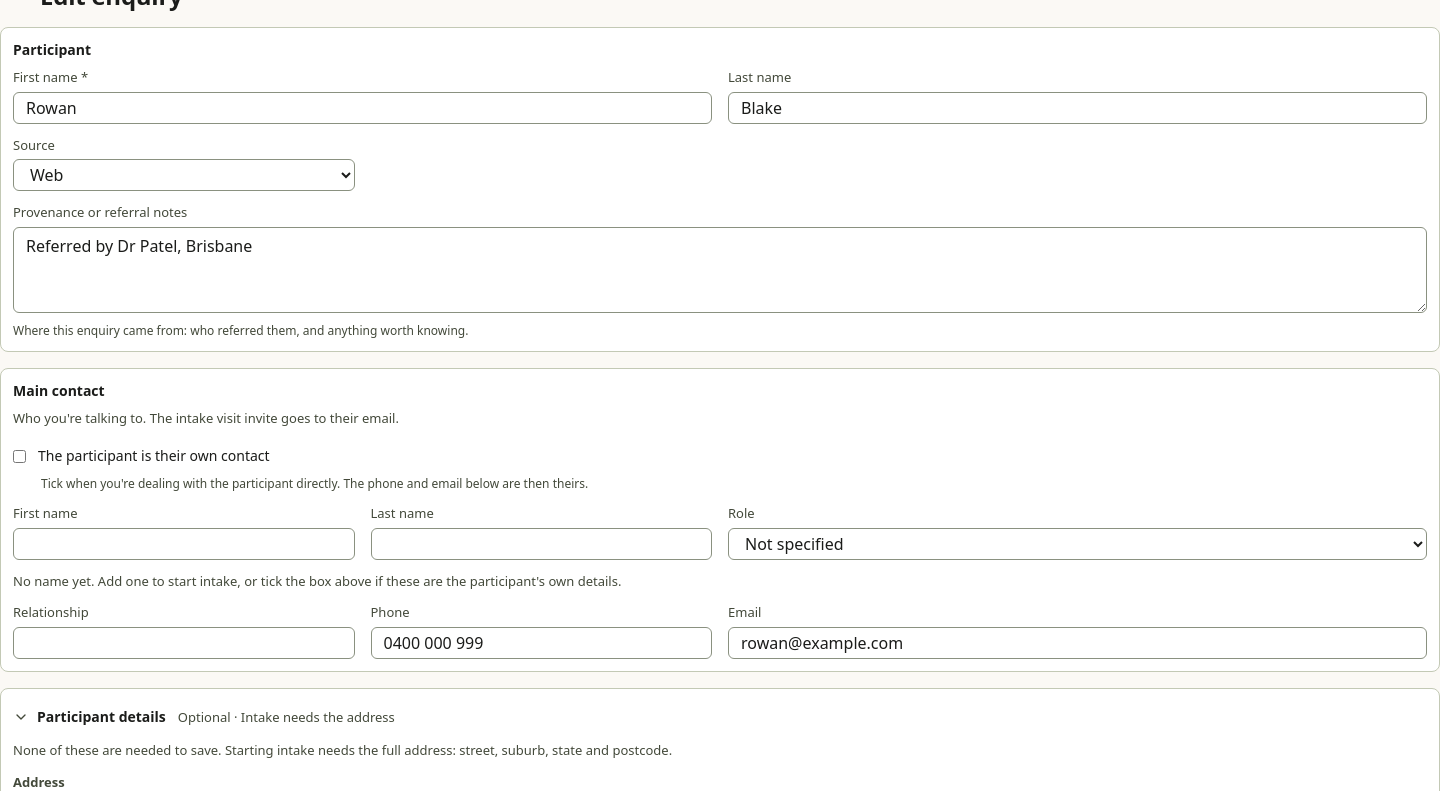
InquiryFormPage (wire) — editing an enquiry opened cold › saves the loaded email, source and provenance with only the name changed: a cold edit never overwrites them with blanks
Replace the text in the field labelled "First name *" with "Ro" at (362, 108), box [13,92,712,124]
(page scrolled)
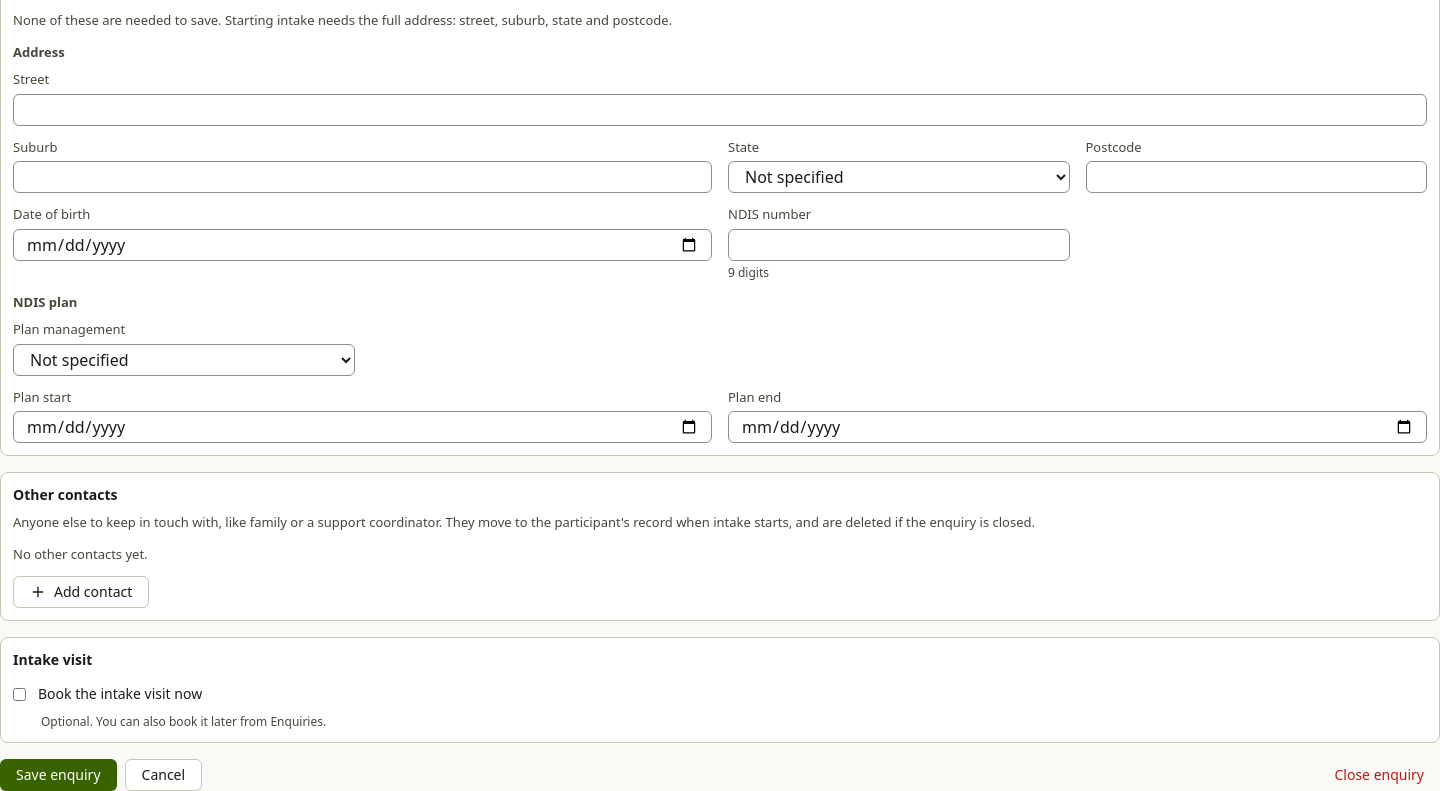
Click the button "Save enquiry".
click(58, 775)  # box [0,759,116,790]
(page scrolled)
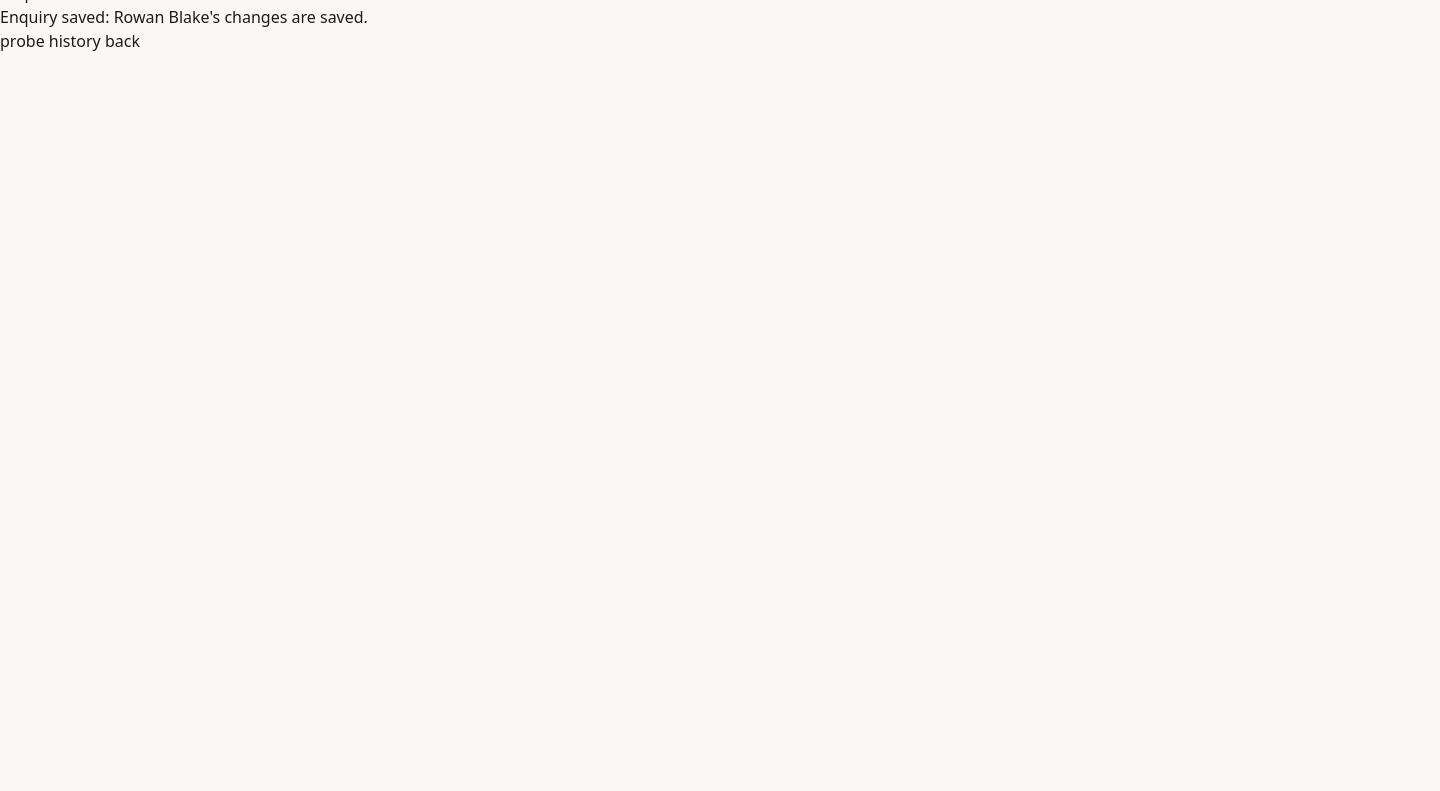
Expected: the text with test id "notice" reads "Enquiry saved: Rowan Blake's changes are saved.", [0,6,368,28]
